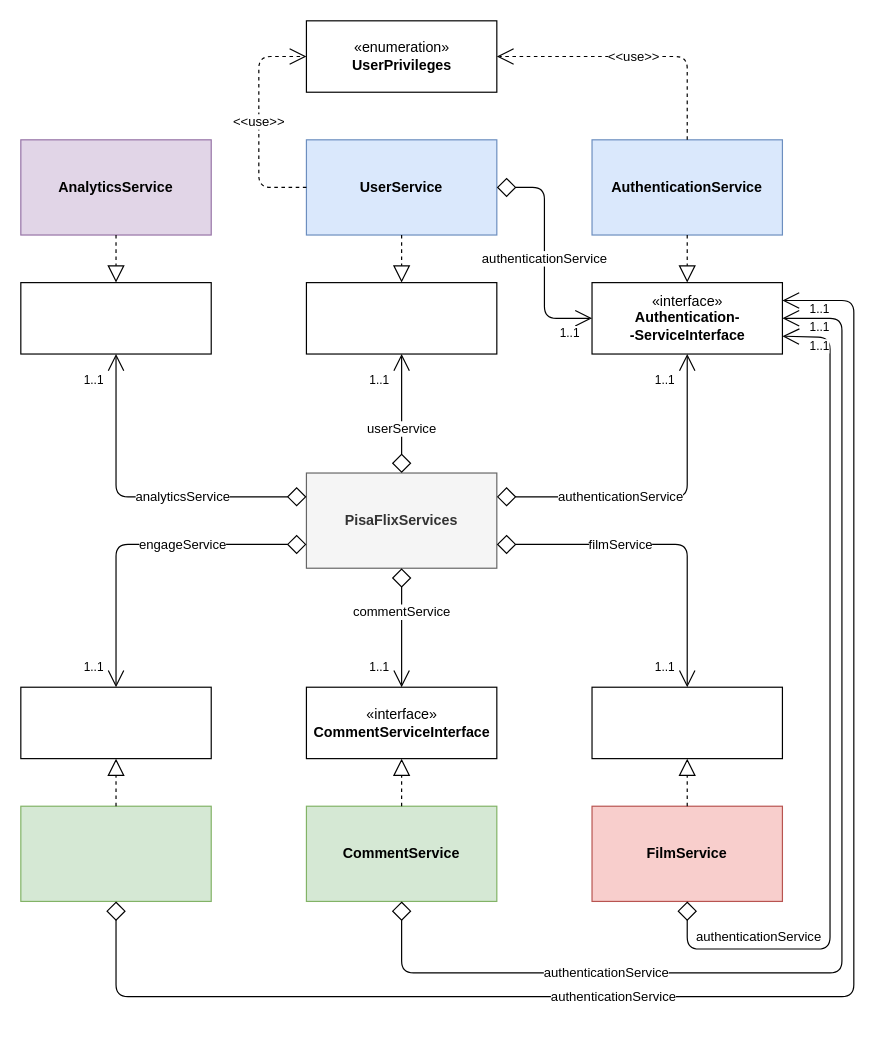
Some shapes in this 895 by 1038 pixel diagram are drawn without their labels. The centre of each missing label's shape, as x and y in pixels:
"Engage Service" goes at [115,853].
"«interface» AnalyticsServiceInterface" goes at [115,317].
"«interface» Engage ServiceInterface" goes at [115,722].
"«interface» FilmServiceInterface" goes at [686,722].
"«interface» UserServiceInterface" goes at [401,317].
